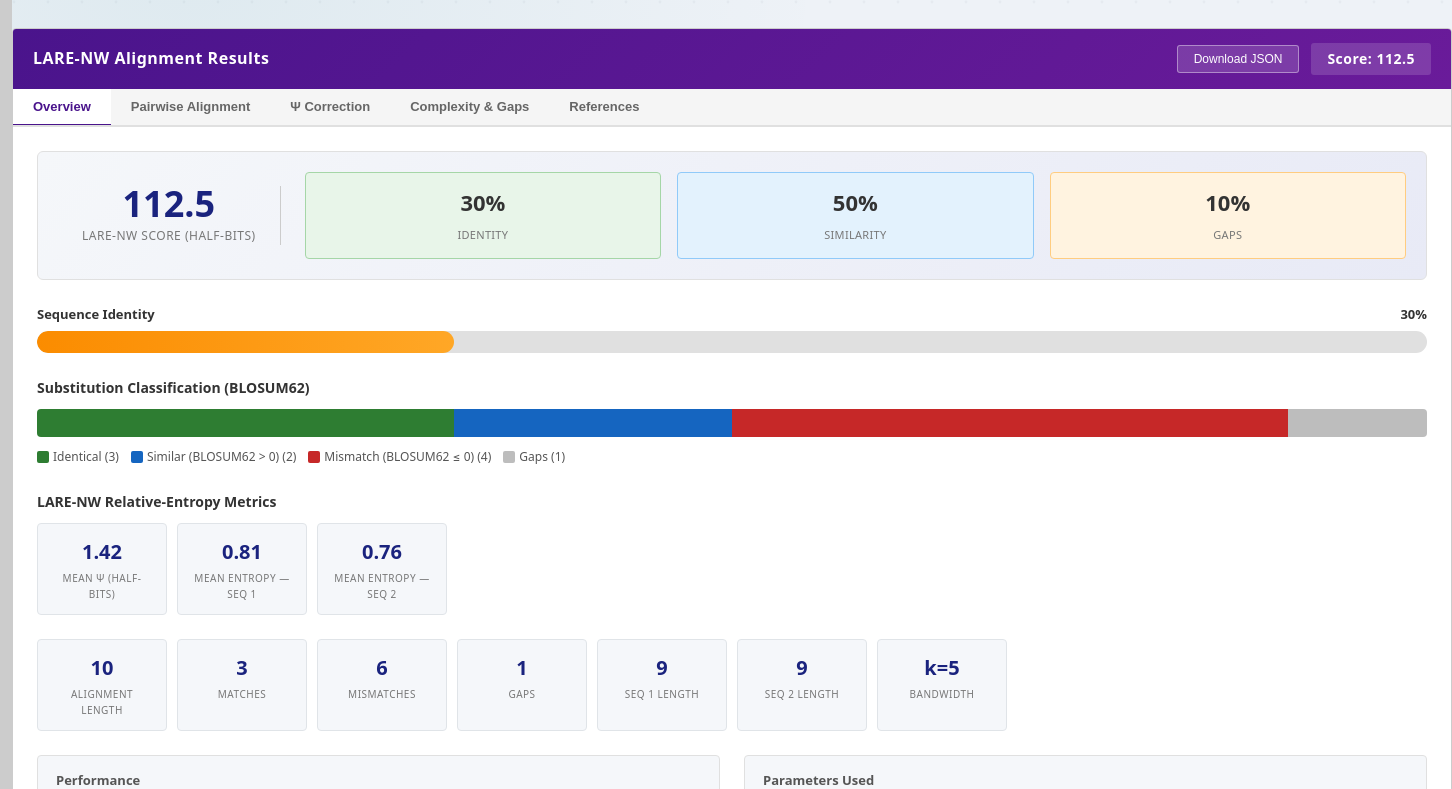
it: AlignmentResults › switches to the References tab
Click the button "References".
click(604, 108)  # box [549, 89, 659, 127]
(page scrolled)
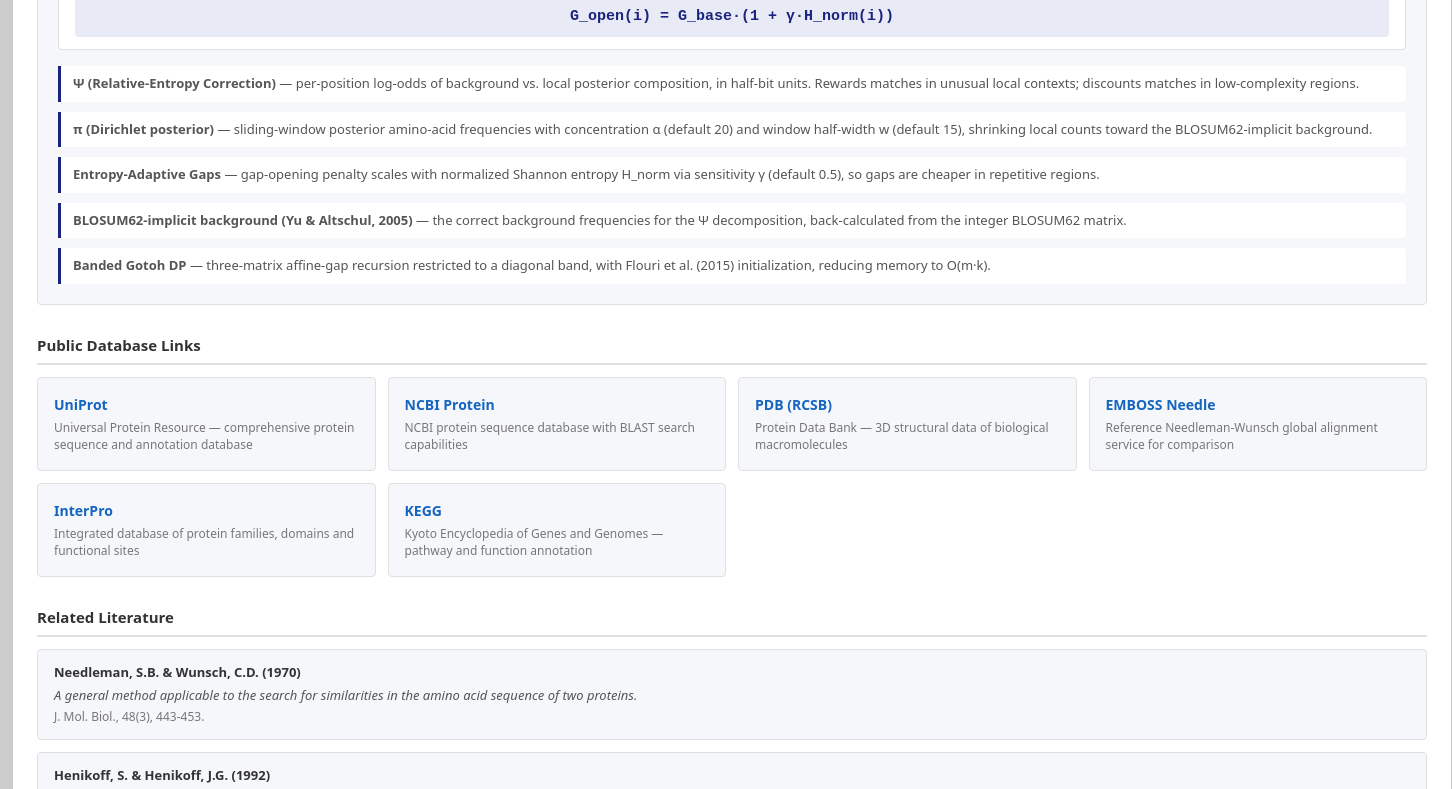
Expected: the heading "Public Database Links" is shown, [37, 333, 1427, 365]
Expected: the text "UniProt" is shown, [54, 395, 108, 414]
